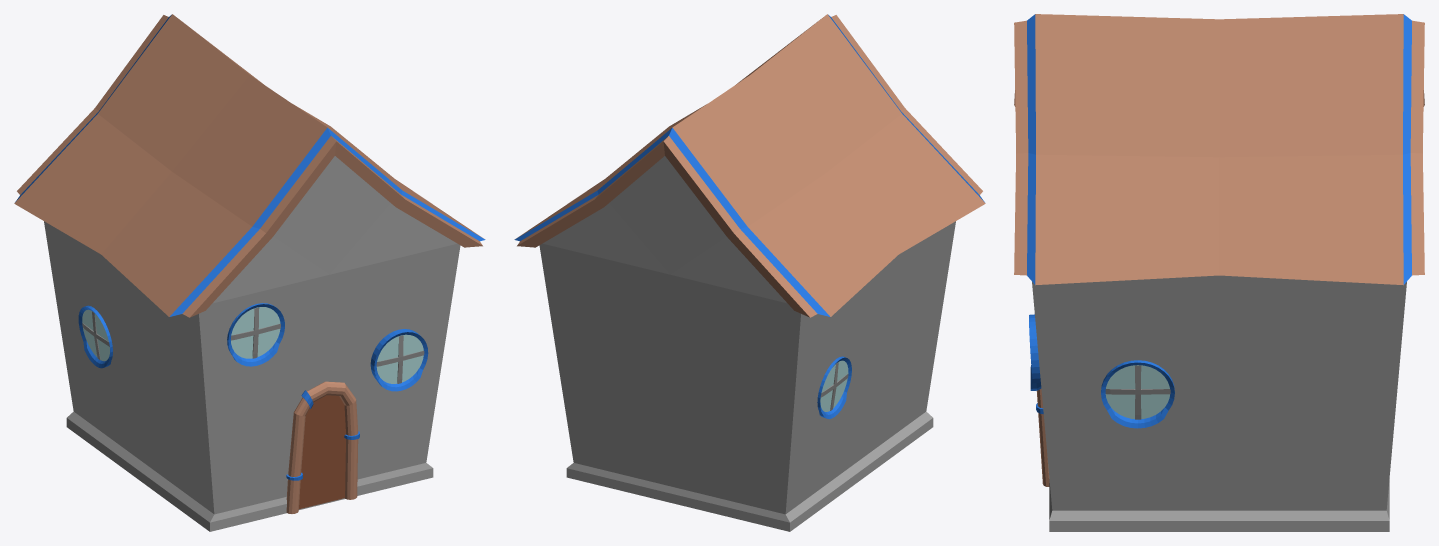
File: Town House.fbx
The picture shows the model from 3 angles, left to right: view 1: azimuth 30°, elevation 25°; view 2: azimuth 150°, elevation 25°; view 3: azimuth 270°, elevation 25°; orthographic projection. The views are drawn at different scales.
Parts seen in each view (by area): view 1: Cube, Cube.001, Circle.000, Circle.001, Circle.003; view 2: Cube, Circle.003; view 3: Cube, Circle.002, Circle.001, Cube.001.
Part boxes in pixels (bbox=[...]): Cube: bbox=[14, 14, 485, 531]; Cube.001: bbox=[286, 381, 359, 513]; Circle.000: bbox=[227, 303, 284, 366]; Circle.001: bbox=[370, 329, 428, 391]; Circle.003: bbox=[78, 305, 112, 368]; Cube: bbox=[514, 14, 985, 531]; Circle.003: bbox=[817, 356, 851, 419]; Cube: bbox=[1014, 14, 1424, 531]; Circle.002: bbox=[1101, 360, 1174, 428]; Circle.001: bbox=[1029, 314, 1041, 390]; Cube.001: bbox=[1034, 314, 1049, 486].
Bounding box in the file's own units: 816 × 939 × 771.
